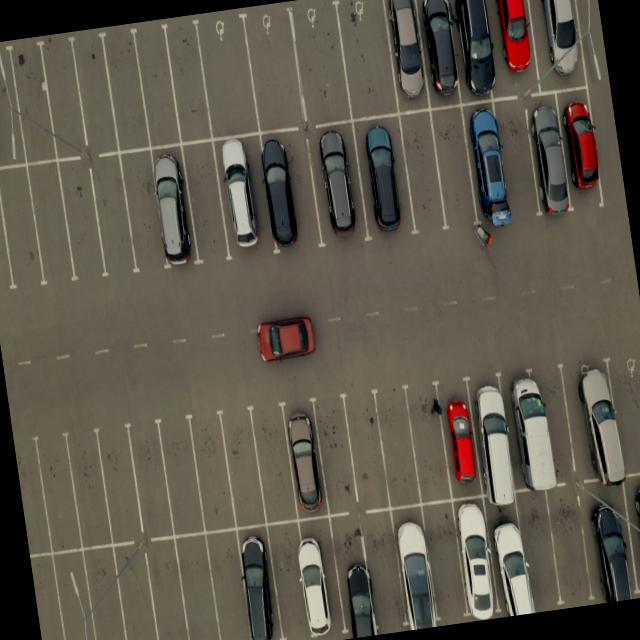car: (331, 511, 408, 639), (560, 356, 625, 485), (256, 130, 322, 256), (500, 367, 564, 495), (282, 514, 344, 640), (215, 135, 276, 261), (354, 112, 416, 235), (307, 124, 368, 247), (468, 370, 522, 494), (326, 512, 379, 638), (461, 101, 513, 228), (579, 495, 638, 604), (434, 378, 486, 500), (485, 492, 536, 616), (450, 497, 501, 619), (152, 147, 202, 271), (390, 505, 440, 629), (525, 94, 574, 215), (280, 398, 330, 515), (381, 0, 432, 113), (235, 524, 282, 640), (527, 0, 588, 89), (556, 88, 602, 205), (447, 0, 500, 100), (418, 0, 466, 106), (488, 0, 542, 94), (625, 472, 640, 594)
free: (195, 16, 262, 140), (244, 11, 310, 132), (332, 0, 397, 121), (290, 2, 353, 126), (5, 42, 61, 166), (24, 162, 78, 288), (100, 28, 154, 154), (133, 25, 186, 149), (180, 140, 233, 264), (162, 20, 215, 144), (72, 32, 125, 156), (54, 162, 107, 285), (430, 106, 482, 231), (187, 410, 241, 530), (117, 152, 169, 276), (36, 36, 88, 160), (91, 426, 144, 547), (125, 421, 178, 542), (88, 157, 140, 280), (63, 430, 116, 550), (155, 414, 208, 534), (31, 436, 84, 556), (369, 387, 422, 506), (404, 384, 456, 504), (396, 108, 446, 232), (216, 407, 268, 526), (250, 402, 302, 521), (341, 390, 393, 508), (546, 488, 598, 606), (422, 502, 472, 624), (514, 489, 563, 610), (308, 396, 359, 512), (496, 96, 543, 220), (0, 166, 45, 294), (205, 529, 255, 640), (75, 546, 133, 640), (171, 535, 222, 640), (143, 538, 194, 640), (108, 542, 160, 640), (14, 436, 54, 558), (47, 550, 99, 640), (608, 357, 640, 477), (30, 554, 70, 640), (0, 49, 23, 168), (0, 171, 15, 296)
